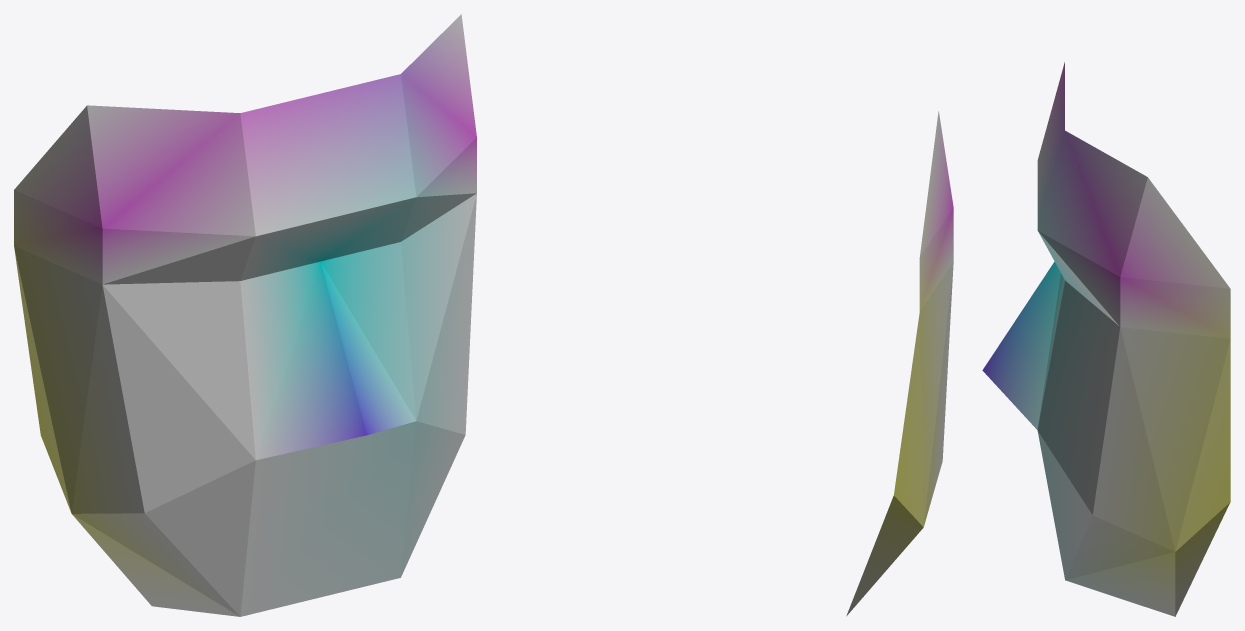
3 renders of one model, left to right at view 1: azimuth 30°, elevation 25°; view 2: azimuth 150°, elevation 25°; view 3: azimuth 270°, elevation 25°, orthographic. The views are drawn at different scales.
Visible parts, largest first — view 1: model_13FA; view 2: model_13FA; view 3: model_13FA.
Boxes of the visible parts, <box> form: model_13FA: <box>14,14,476,616</box>; model_13FA: <box>846,111,953,616</box>; model_13FA: <box>982,62,1230,616</box>.
Bounding box in the file's own units: 16 × 19 × 9.
